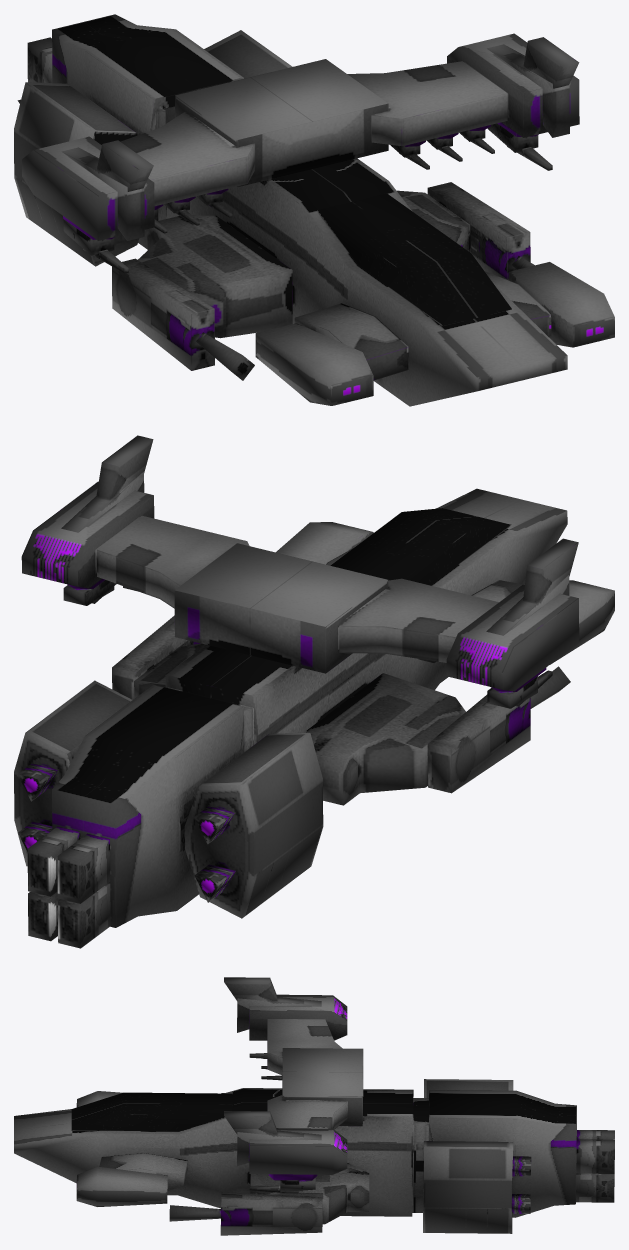
File: purple_spaceship_01.fbx
3 views of the same model, one above another, from view 1: azimuth 30°, elevation 25°; view 2: azimuth 150°, elevation 25°; view 3: azimuth 270°, elevation 25° (orthographic). The views are drawn at different scales.
Parts seen in each view (by area): view 1: PCruiserMod; view 2: PCruiserMod; view 3: PCruiserMod.
Part boxes in pixels (x1,y1,x2,y2): PCruiserMod: (14,14,614,406); PCruiserMod: (14,435,614,948); PCruiserMod: (14,977,614,1235).
Size of the model in its own units: 3593 by 6059 by 1751.
